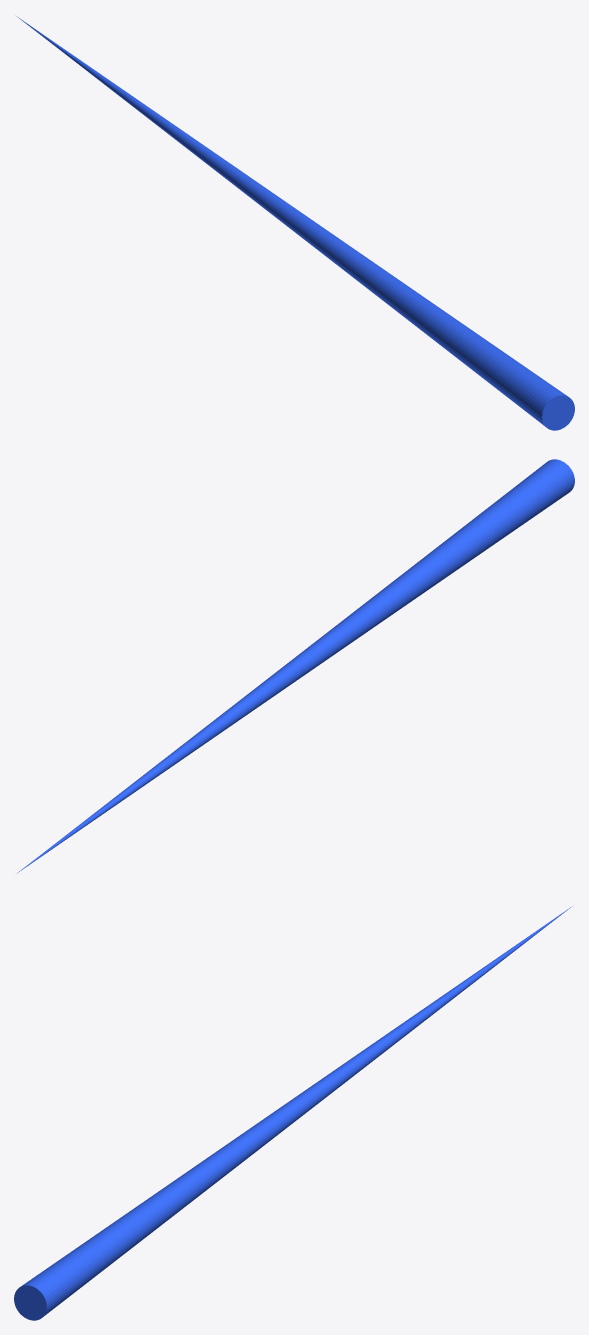
File: EyeCone.fbx
3 renders of one model, top to bottom at view 1: azimuth 30°, elevation 25°; view 2: azimuth 150°, elevation 25°; view 3: azimuth 330°, elevation 25°, orthographic.
Parts seen in each view (by area): view 1: EyeCone; view 2: EyeCone; view 3: EyeCone.
Boxes of the visible parts, x1=… form: EyeCone: x1=16, y1=16, x2=574, y2=430; EyeCone: x1=16, y1=459, x2=574, y2=873; EyeCone: x1=14, y1=906, x2=572, y2=1320.
Bounding box in the file's own units: 3.49 × 3.49 × 100.
